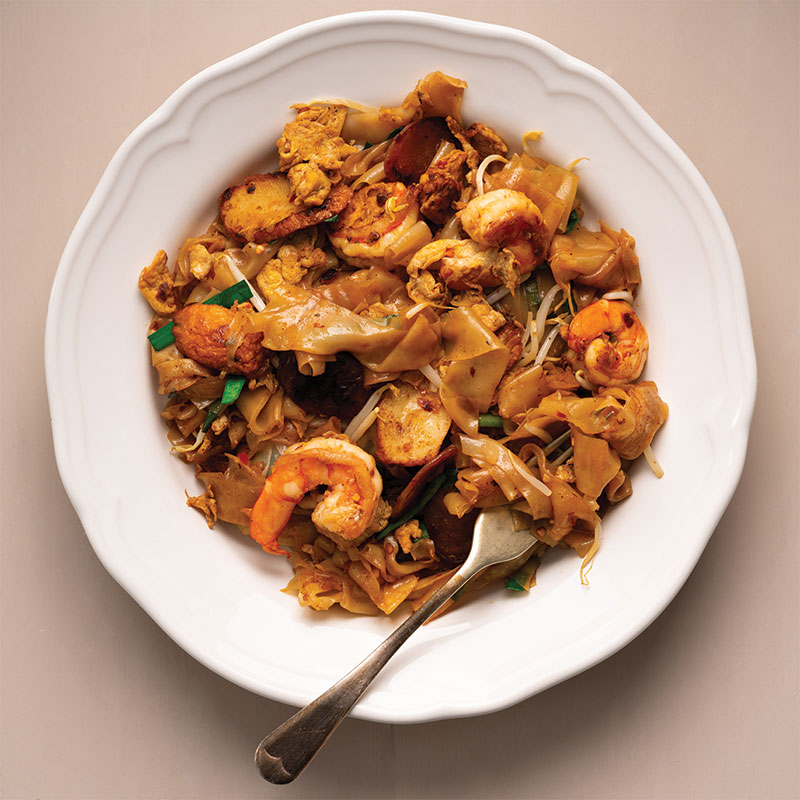Char Kway Teow: (165, 75, 670, 620)
